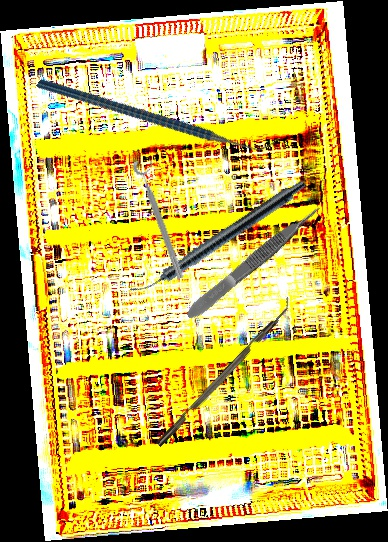Chopper: (35, 6, 278, 220), (149, 294, 297, 448)
Fixation Ring: (131, 156, 194, 281)
Handpiece: (129, 173, 309, 304)
Tissue Forceps: (182, 202, 326, 323)
